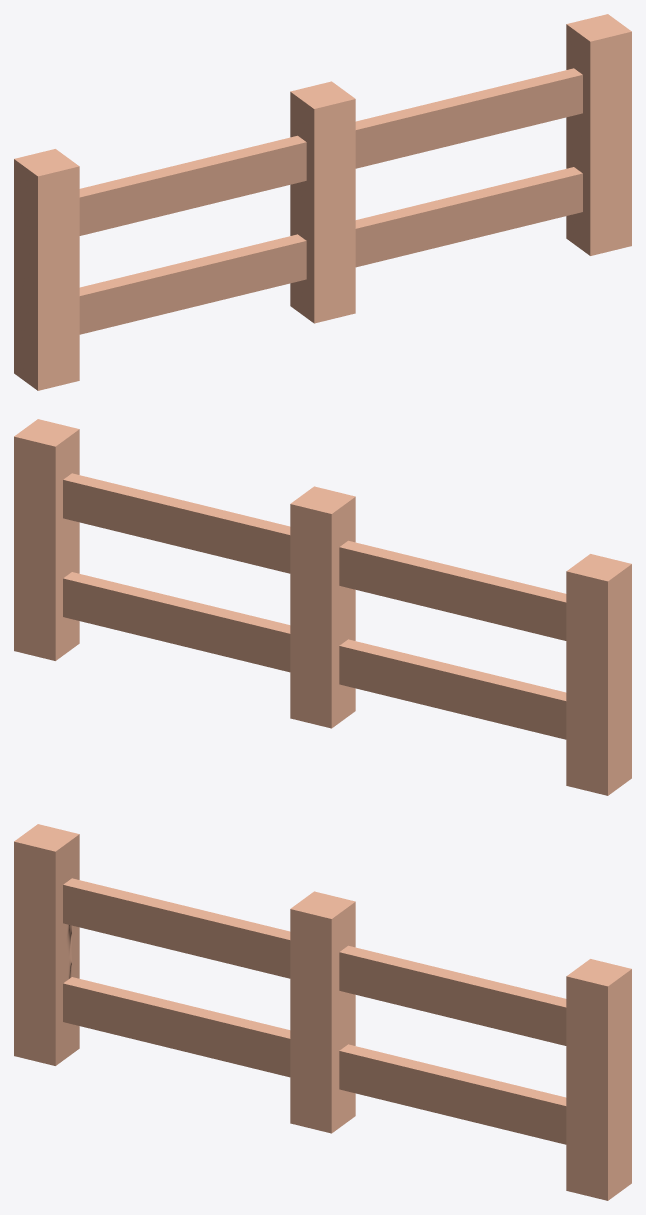
Rendered from fence_simpleCenter.fbx.
3 renders of one model, top to bottom at view 1: azimuth 30°, elevation 25°; view 2: azimuth 150°, elevation 25°; view 3: azimuth 330°, elevation 25°, orthographic.
Parts seen in each view (by area): view 1: fence_simpleCenter_LOD0; view 2: fence_simpleCenter_LOD0; view 3: fence_simpleCenter_LOD0.
Boxes of the visible parts, x1=… form: fence_simpleCenter_LOD0: x1=14, y1=14, x2=631, y2=390; fence_simpleCenter_LOD0: x1=14, y1=419, x2=631, y2=795; fence_simpleCenter_LOD0: x1=14, y1=824, x2=631, y2=1200.
Size of what is drawn, in the model's own units: 100 by 34.5 by 7.
